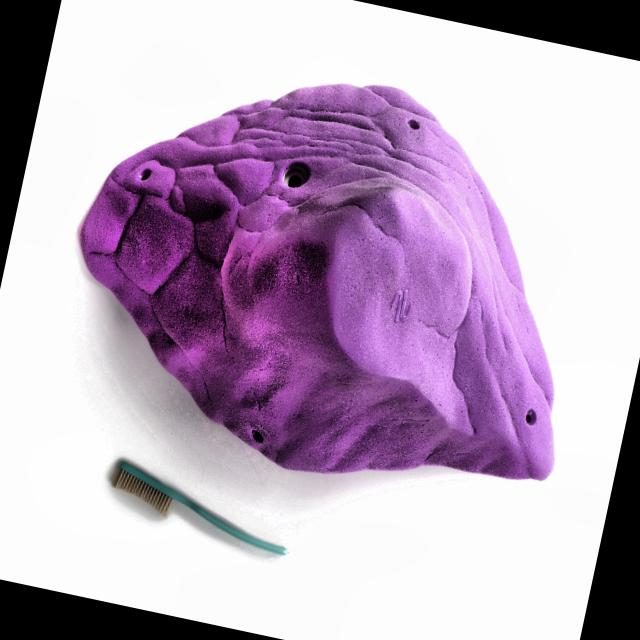Hold: (54, 60, 574, 511)
